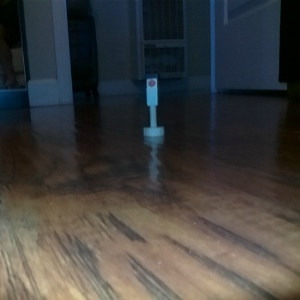traffic light red: (141, 70, 165, 140)
